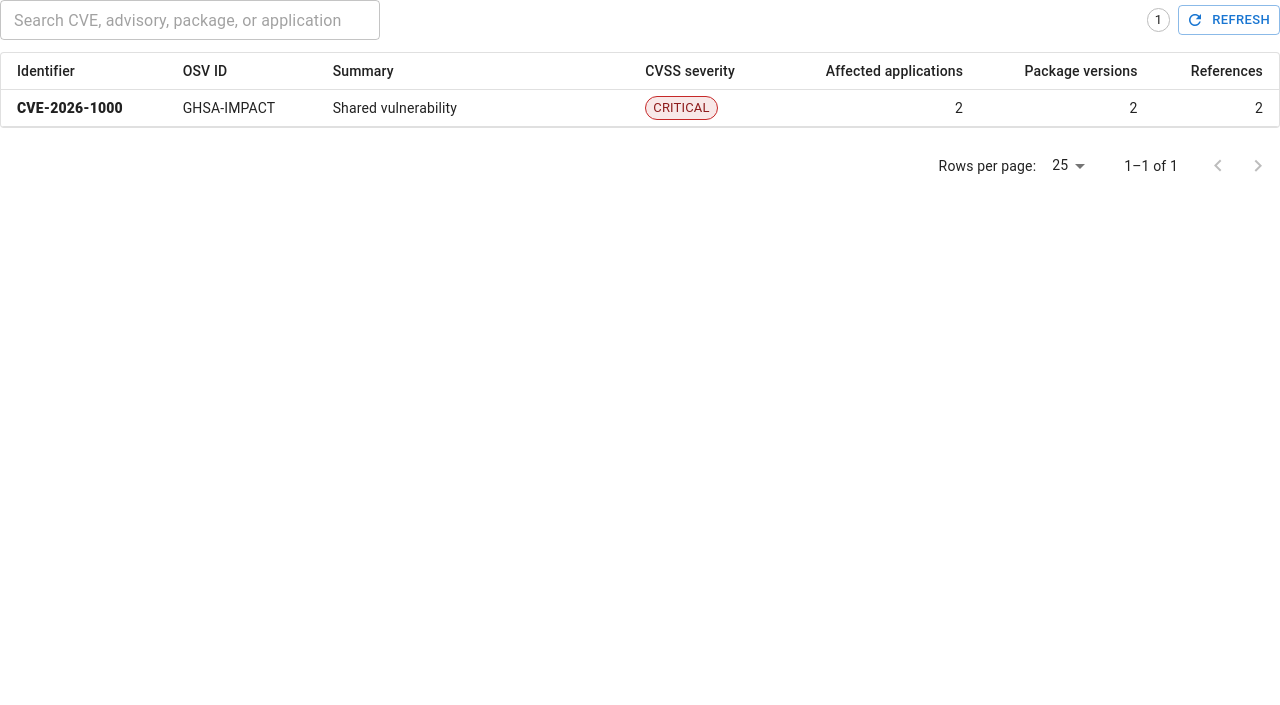
CveImpactView › shows fixed dependency versions after references
Click the text "CVE-2026-1000".
click(70, 108)  # box [17, 100, 123, 116]
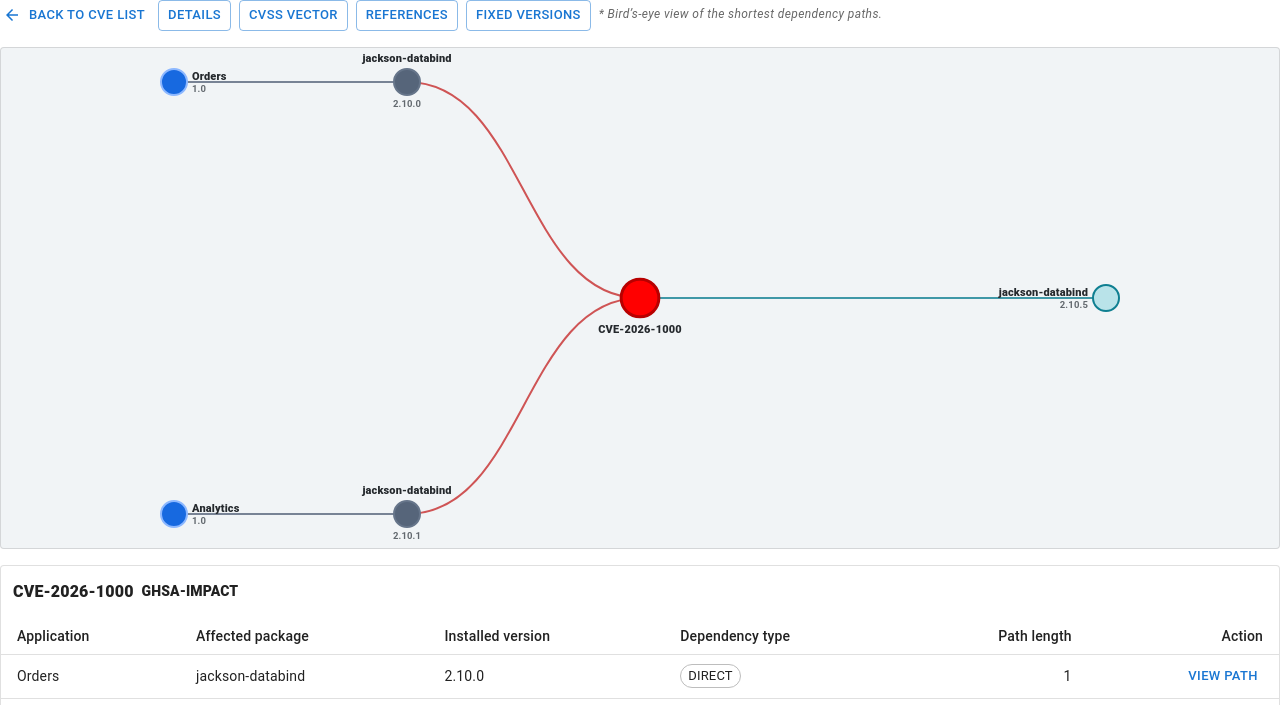
Expected: the element named "CVE impact and fixes tree" is shown
Click the button "Fixed versions".
click(528, 15)  # box [466, 0, 591, 31]
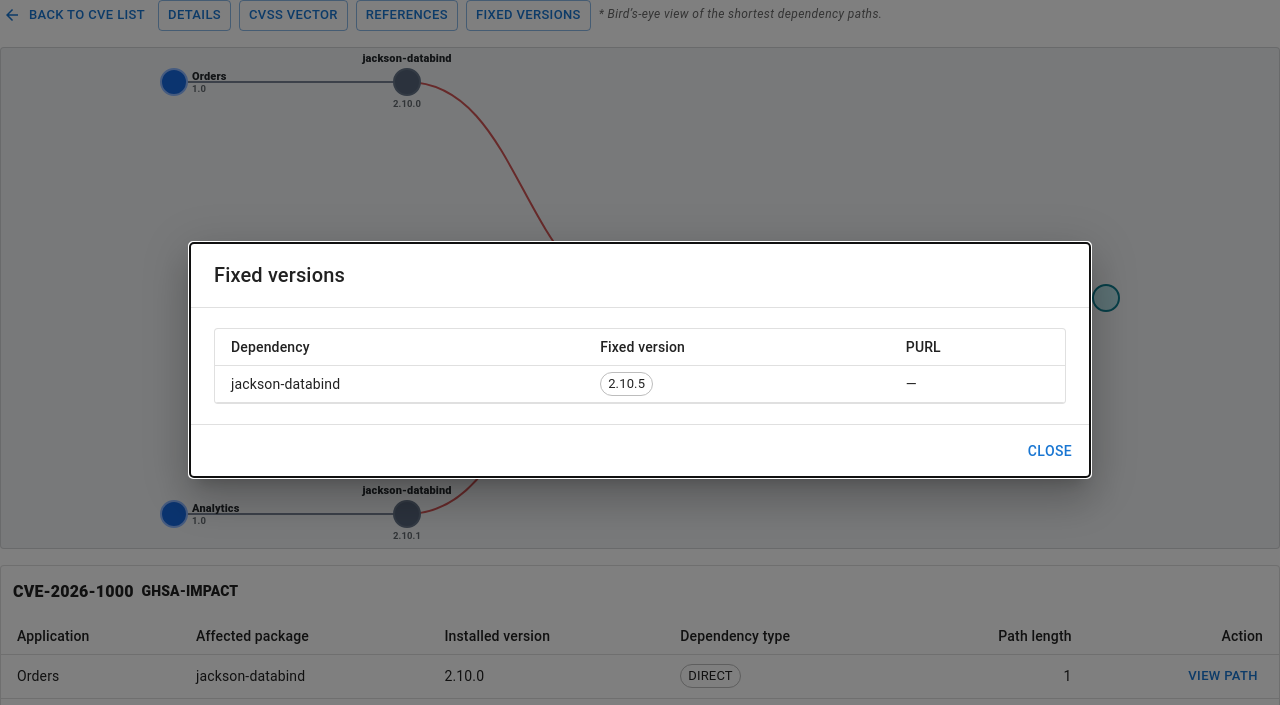
Expected: the text "jackson-databind" is shown, [215, 365, 584, 402]
Expected: the text "2.10.5" is shown, [608, 376, 645, 391]
